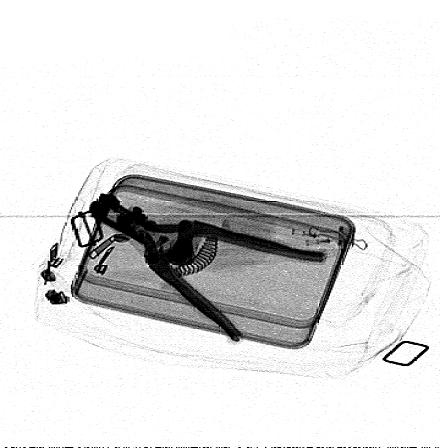Pliers: (85, 190, 329, 342)
